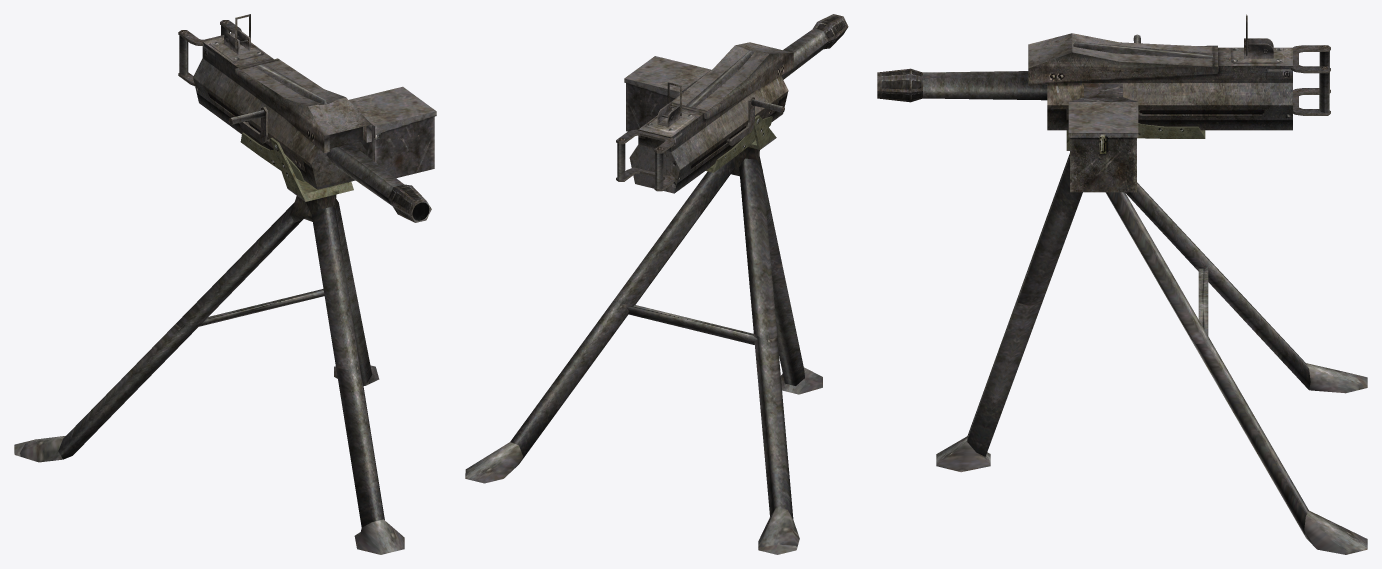
3 renders of one model, left to right at view 1: azimuth 30°, elevation 25°; view 2: azimuth 150°, elevation 25°; view 3: azimuth 270°, elevation 25°, orthographic. The views are drawn at different scales.
Parts seen in each view (by area): view 1: _mk19; view 2: _mk19; view 3: _mk19.
Part boxes in pixels (x1,y1,x2,y2): _mk19: (14,14,436,554); _mk19: (465,14,848,554); _mk19: (877,14,1367,554).
Size of the model in its own units: 1.24 by 1.41 by 1.41.
1 material, 1 textured.
